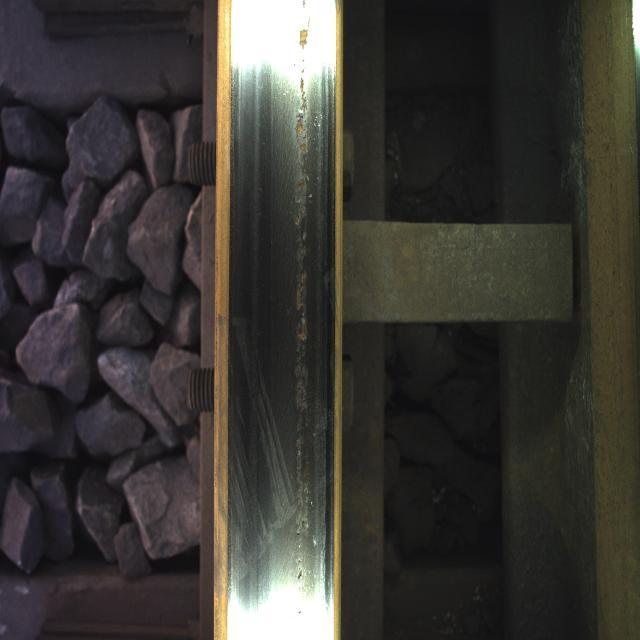crack: (276, 0, 326, 610)
